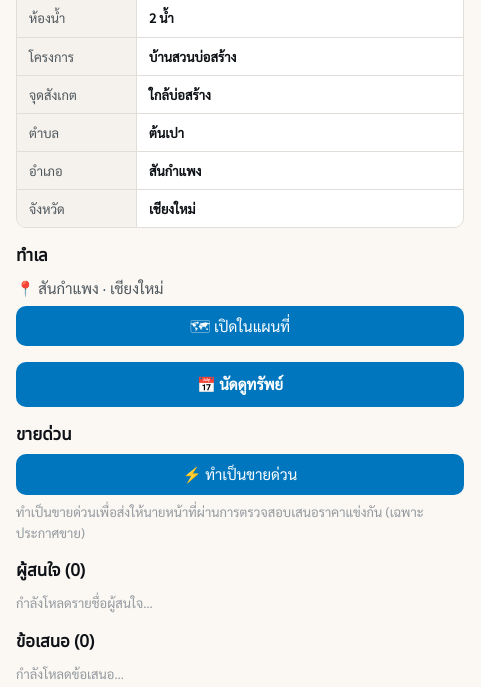
Test case: Create a viewing from the detail screen › maps a server 400 (invalid_time) to a calm field error
(page scrolled)
Click the button "📅 นัดดูทรัพย์" at coordinates (240, 385), box [16, 362, 464, 407]
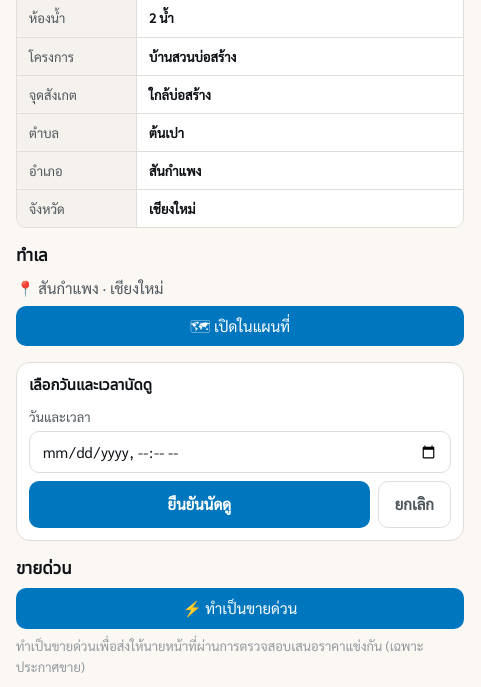
Check: the field labelled "วันและเวลา" is shown
Type "2030-12-31T10:00" into the field labelled "วันและเวลา" at coordinates (240, 452), box [29, 431, 451, 473]
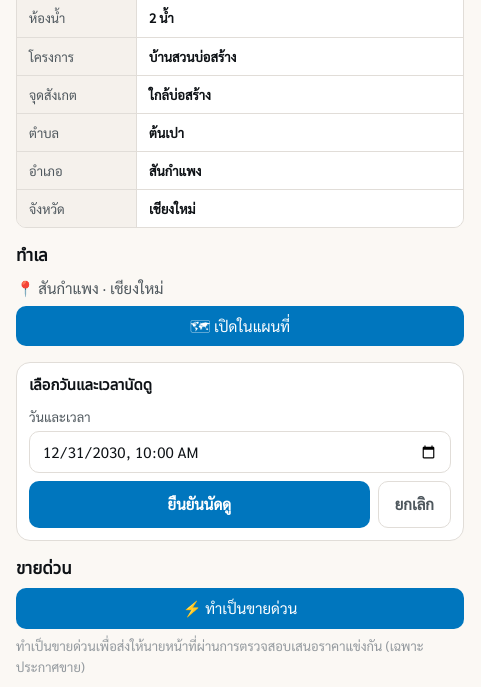
Click the button "ยืนยันนัดดู" at coordinates (199, 505), box [29, 481, 370, 528]
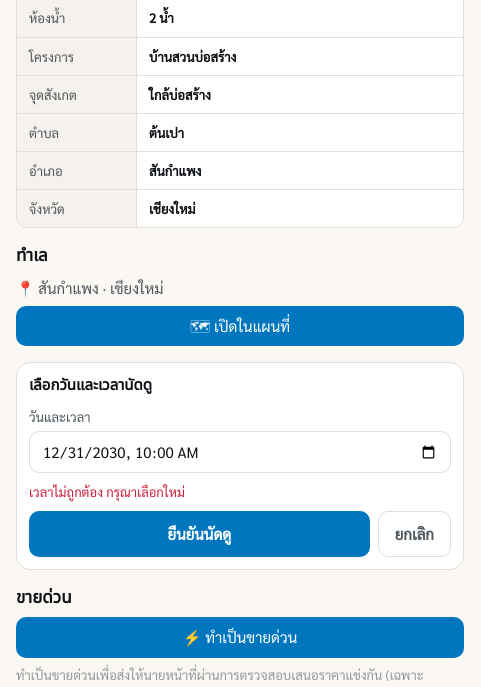
Check: the message "เวลาไม่ถูกต้อง กรุณาเลือกใหม่" is shown, box [29, 483, 185, 500]
